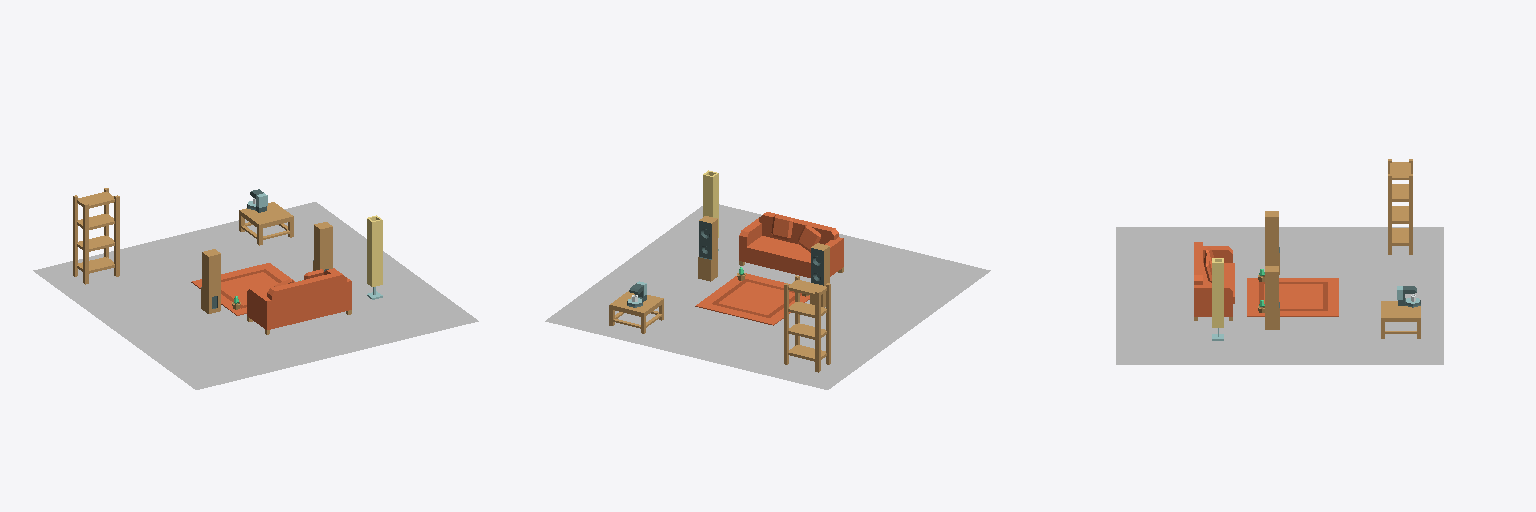
File: level.obj
3 views of the same model, side by side, from view 1: azimuth 30°, elevation 25°; view 2: azimuth 150°, elevation 25°; view 3: azimuth 270°, elevation 25° (orthographic).
Visible parts, largest first — view 1: Plane_Plane.001, loungeSofa, bookcaseOpen.002, rugSquare, tableCoffeeSquare, lampSquareFloor, speaker.001, speaker; view 2: Plane_Plane.001, loungeSofa, rugSquare, bookcaseOpen.002, speaker, tableCoffeeSquare, speaker.001, lampSquareFloor; view 3: Plane_Plane.001, rugSquare, bookcaseOpen.002, loungeSofa, tableCoffeeSquare, lampSquareFloor, speaker, speaker.001.
Part boxes in pixels (x1,y1,x2,y2): Plane_Plane.001: (33,202,478,389); loungeSofa: (247,268,351,334); bookcaseOpen.002: (73,188,119,284); rugSquare: (191,263,294,315); tableCoffeeSquare: (239,202,293,245); lampSquareFloor: (367,215,382,299); speaker.001: (201,249,220,313); speaker: (313,222,332,271); Plane_Plane.001: (545,204,990,389); loungeSofa: (739,212,843,277); rugSquare: (695,273,809,325); bookcaseOpen.002: (784,275,830,372); speaker: (698,216,717,281); tableCoffeeSquare: (609,291,663,333); speaker.001: (810,243,829,307); lampSquareFloor: (703,170,718,250); Plane_Plane.001: (1116,227,1443,364); rugSquare: (1247,278,1338,316); bookcaseOpen.002: (1388,159,1412,254); loungeSofa: (1194,242,1234,320); tableCoffeeSquare: (1381,301,1420,338); lampSquareFloor: (1212,258,1223,340); speaker: (1265,266,1279,329); speaker.001: (1265,211,1279,274).
Size of the model in its own units: 32.78 by 8.85 by 32.78.